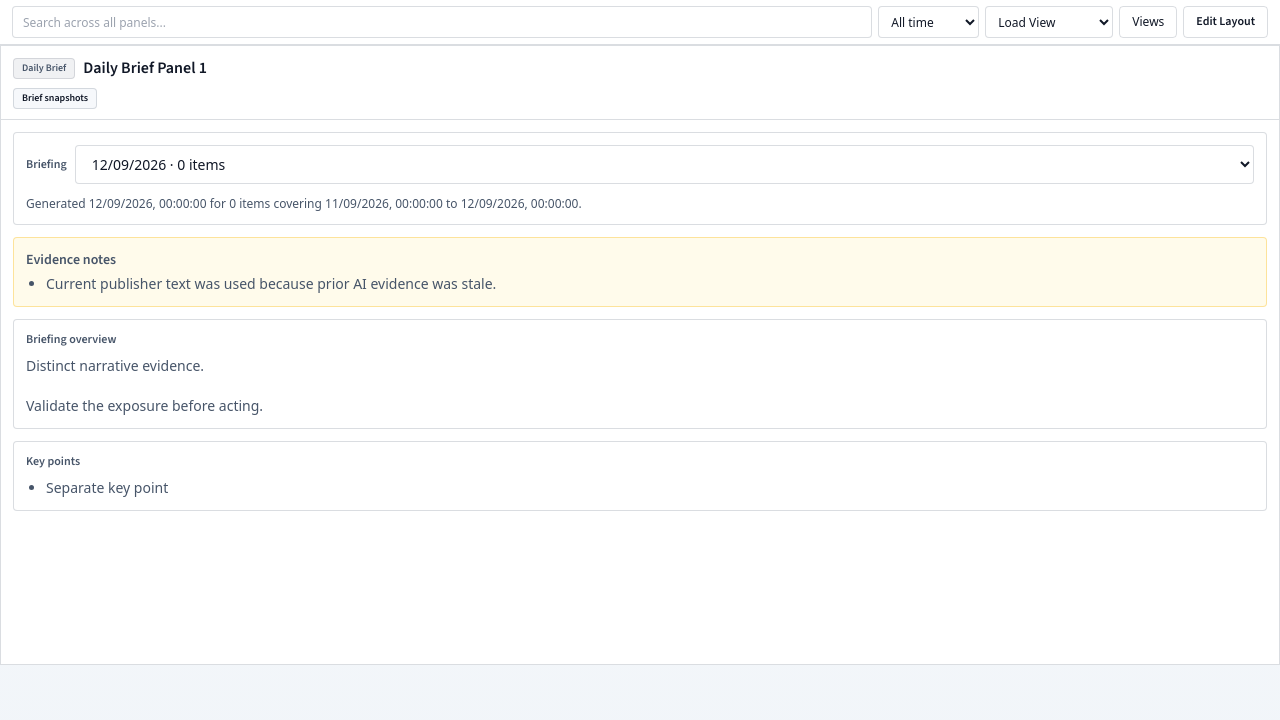
DashboardPage DOM workflows › shows each selected daily brief narrative, including narrative-only briefs, as safe readable text
The image size is (1280, 720).
expect the element named "Briefing evidence notes" shows "Current publisher text was used": met, box [46,274,496,293]
Select "12/09/2026 · 0 items" in the dropdown labelled "Briefing" at (664, 164), box [75,145,1254,184]
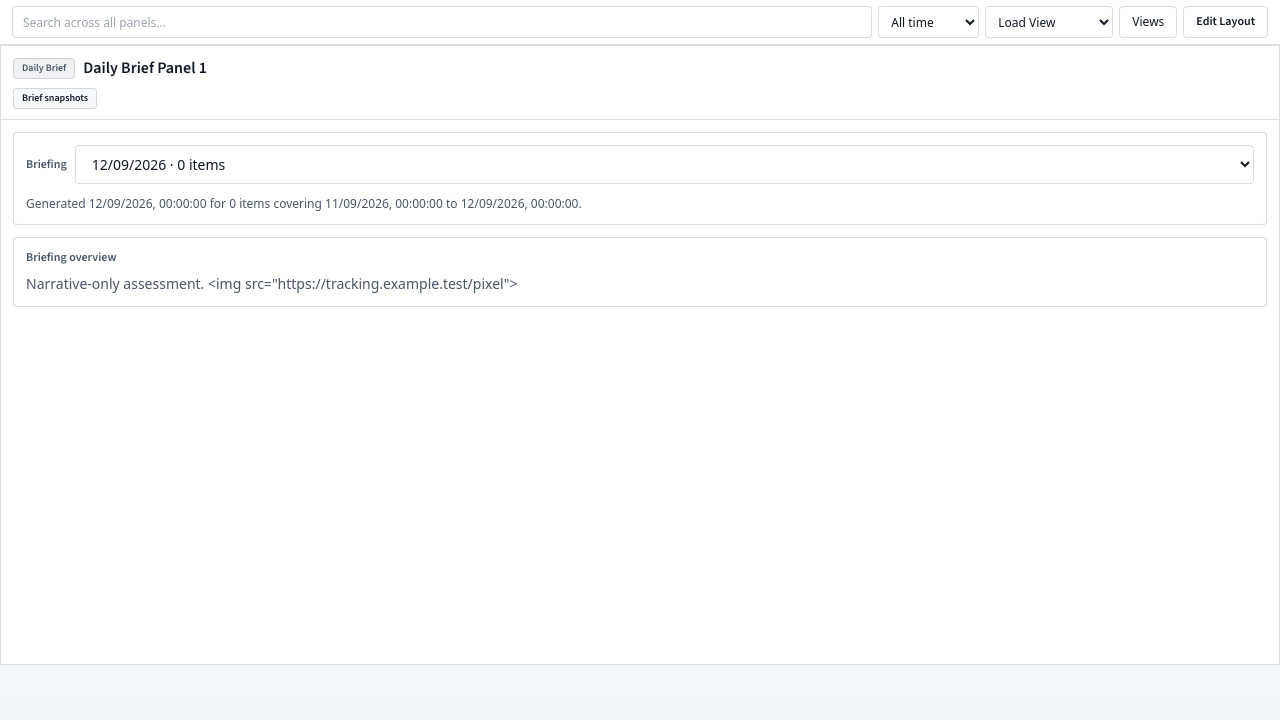
expect the element named "Briefing overview" shows "Narrative-only assessment.": met, box [26,274,517,293]
expect the text "Distinct narrative evidence" is gone: met
expect the text "Separate key point" is gone: met
